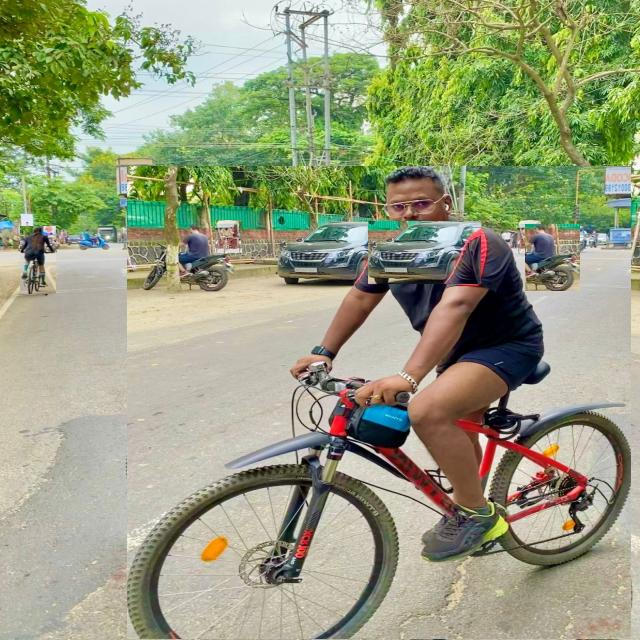bicycle: (128, 166, 631, 640), (21, 227, 56, 294), (215, 220, 242, 253)
car: (368, 221, 481, 284)
motorcycle: (525, 224, 580, 291), (173, 226, 184, 252)
